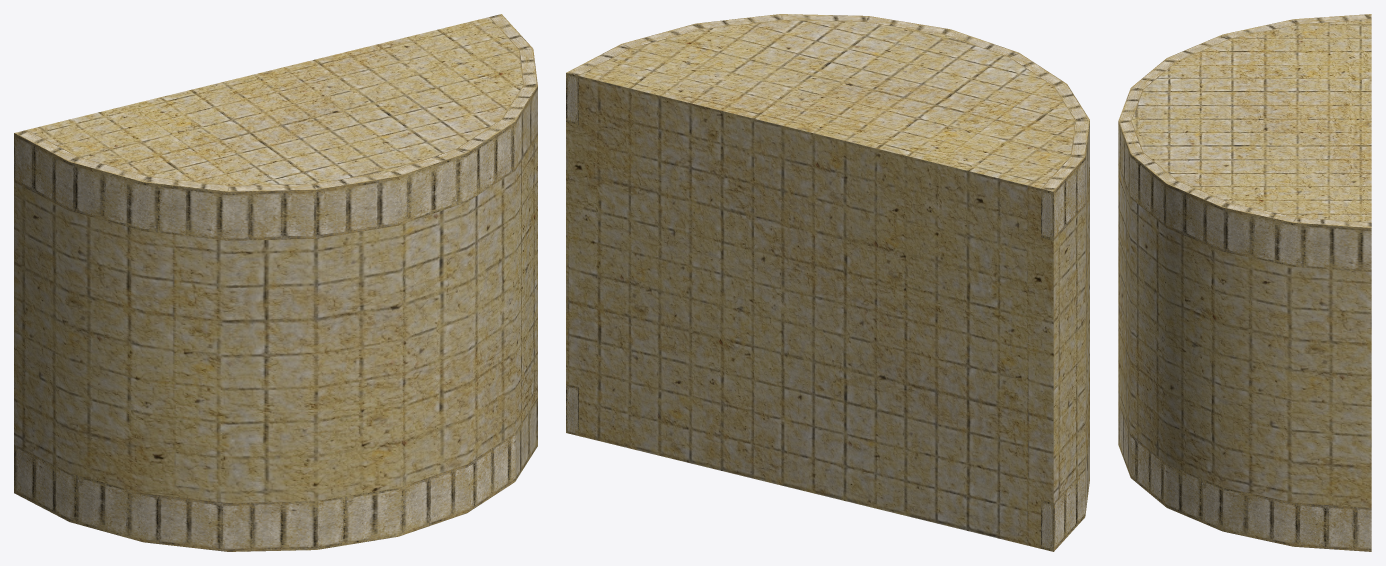
File: desert_16cylinder_half.dae
3 renders of one model, left to right at view 1: azimuth 30°, elevation 25°; view 2: azimuth 150°, elevation 25°; view 3: azimuth 270°, elevation 25°, orthographic. The views are drawn at different scales.
Visible parts, largest first — view 1: desert_16cylinder_half; view 2: desert_16cylinder_half; view 3: desert_16cylinder_half.
Part boxes in pixels (left/top/right/bottom): desert_16cylinder_half: left=14, top=14, right=537, bottom=551; desert_16cylinder_half: left=566, top=14, right=1089, bottom=551; desert_16cylinder_half: left=1118, top=14, right=1371, bottom=551.
Size of the model in its own units: 3.64 by 1.82 by 2.57.
2 materials, 2 textured.
